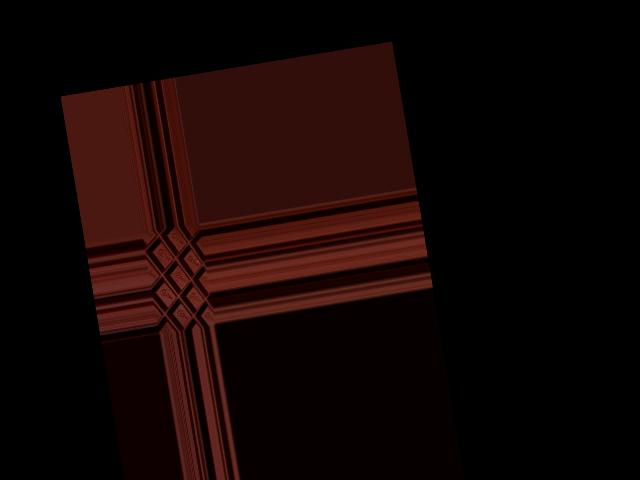chocolate: (141, 223, 213, 332)
